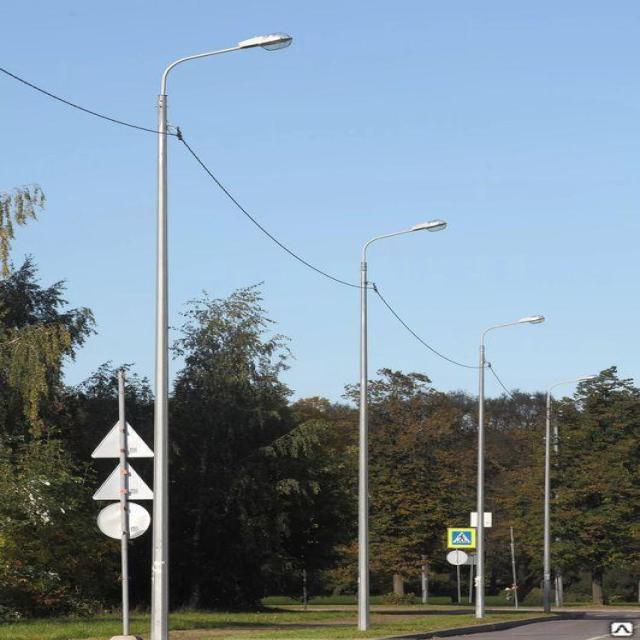pole: (149, 269, 182, 640), (352, 361, 378, 633)
